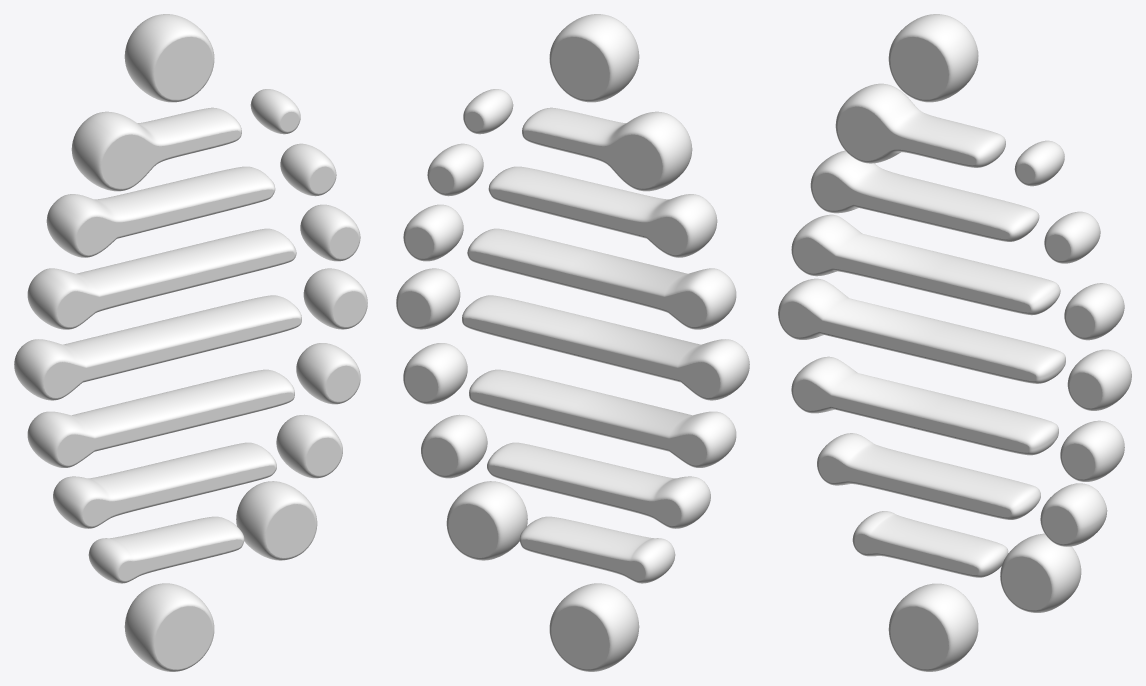
The model's file is helix.0fdcc44c.glb.
3 renders of one model, left to right at view 1: azimuth 30°, elevation 25°; view 2: azimuth 150°, elevation 25°; view 3: azimuth 330°, elevation 25°, orthographic.
Parts seen in each view (by area): view 1: helix; view 2: helix; view 3: helix.
Part boxes in pixels (left/top/right/bottom): helix: left=14, top=14, right=367, bottom=671; helix: left=396, top=14, right=749, bottom=671; helix: left=778, top=14, right=1131, bottom=671.
Size of the model in its own units: 5.59 by 10.24 by 0.8.
Materials: 1 (1 with a texture image).
